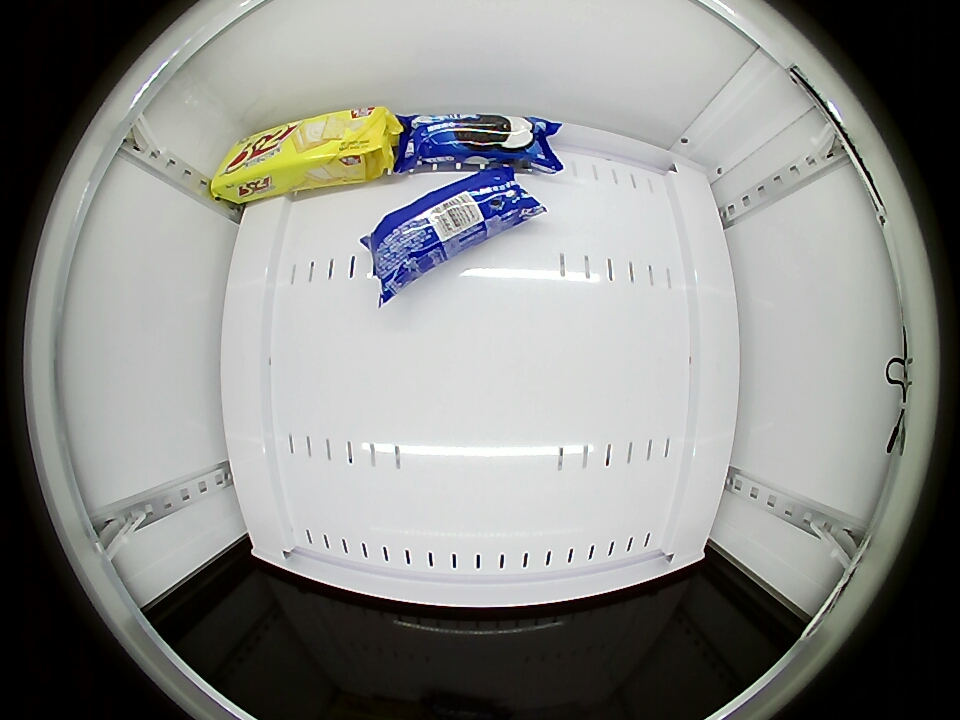3+2-2: (211, 106, 391, 198)
aoliao: (371, 171, 531, 288), (396, 111, 556, 171)
